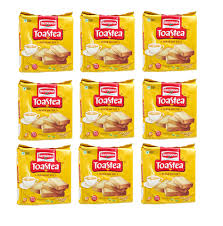Britania-toast-small: (139, 141, 196, 208), (18, 12, 76, 76), (79, 10, 134, 76), (141, 10, 198, 71), (142, 77, 197, 140), (81, 77, 134, 141), (78, 144, 132, 205), (19, 81, 73, 141), (19, 145, 70, 206)
